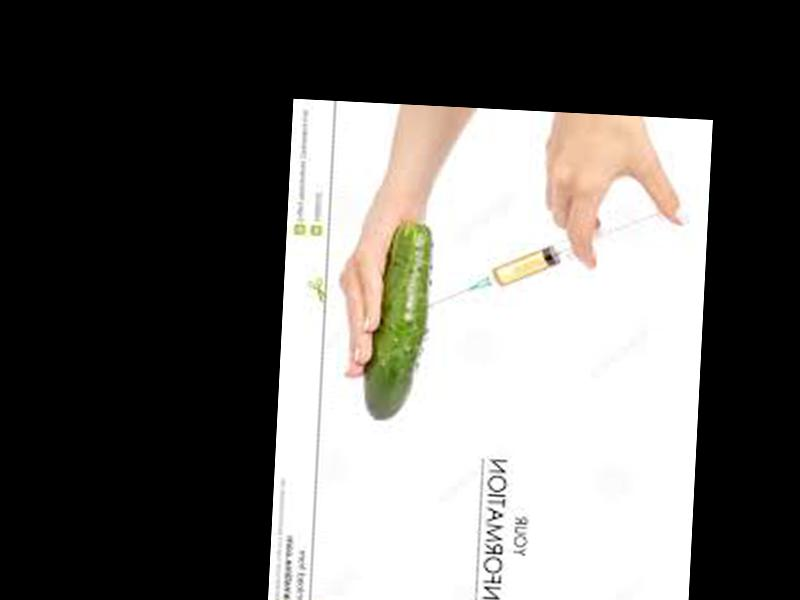Cucumber: (363, 219, 432, 422)
